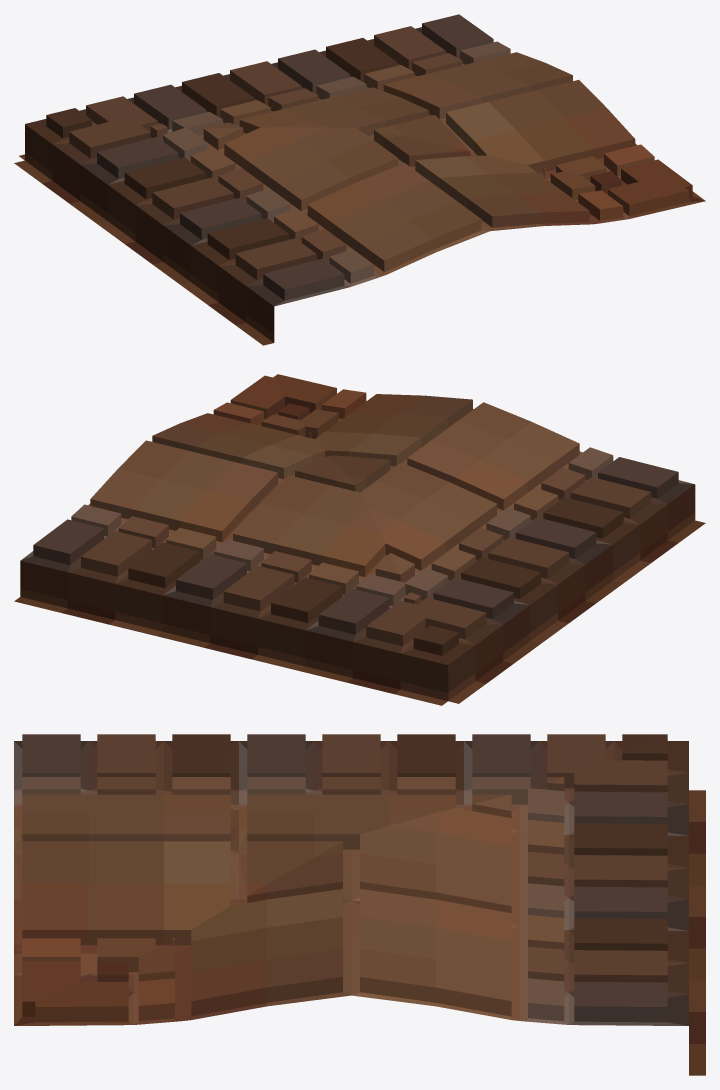
The model's file is Ceiling_HomeA-VaultedTurnLarge.fbx.
3 renders of one model, top to bottom at view 1: azimuth 30°, elevation 25°; view 2: azimuth 150°, elevation 25°; view 3: azimuth 270°, elevation 25°, orthographic. The views are drawn at different scales.
Visible parts, largest first — view 1: Ceiling_HomeA-VaultedTurnLarge; view 2: Ceiling_HomeA-VaultedTurnLarge; view 3: Ceiling_HomeA-VaultedTurnLarge.
Part boxes in pixels (x1=…): Ceiling_HomeA-VaultedTurnLarge: x1=14, y1=14, x2=705, y2=345; Ceiling_HomeA-VaultedTurnLarge: x1=14, y1=374, x2=705, y2=705; Ceiling_HomeA-VaultedTurnLarge: x1=14, y1=734, x2=705, y2=1075.
Size of the model in its own units: 615 by 93.3 by 615.
